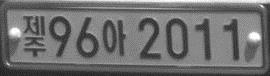0: (165, 16, 188, 60)
1: (221, 16, 243, 65), (193, 17, 212, 60)
2: (136, 17, 160, 62)
6: (74, 16, 102, 59)
9: (47, 14, 72, 58)
아: (102, 17, 127, 55)
제주_V: (21, 14, 46, 59)
